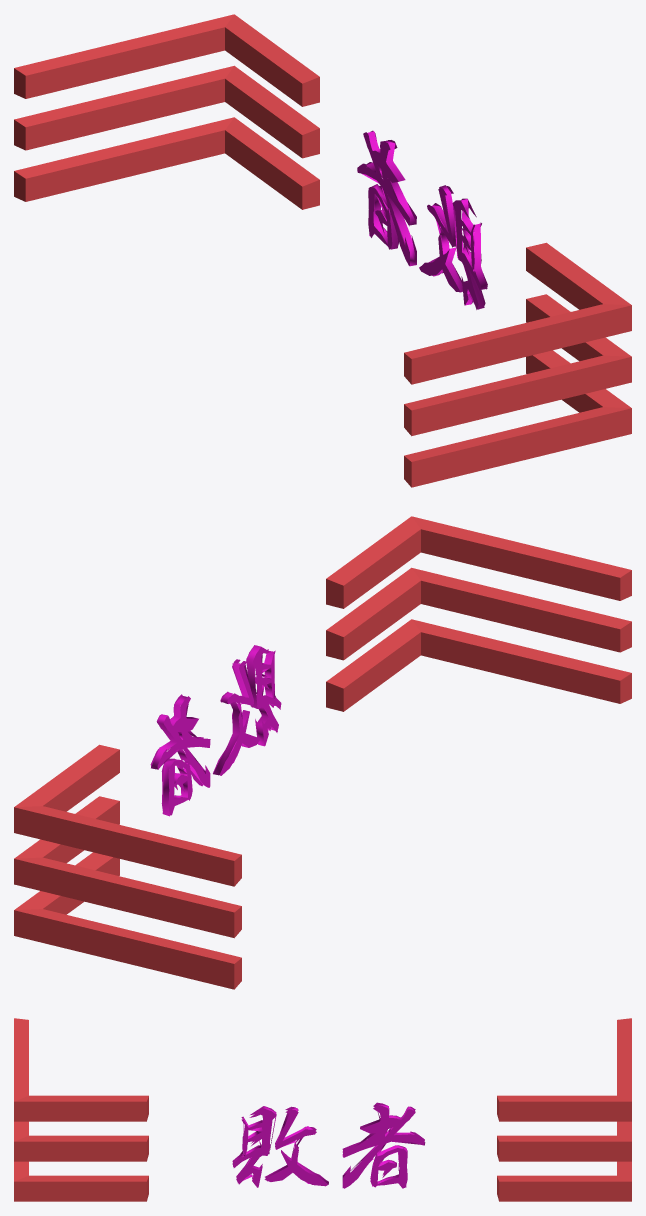
File: RamLoser.fbx
3 renders of one model, top to bottom at view 1: azimuth 30°, elevation 25°; view 2: azimuth 150°, elevation 25°; view 3: azimuth 270°, elevation 25°, orthographic. The views are drawn at different scales.
Parts seen in each view (by area): view 1: Plane.007, Plane.006, Plane.008, Plane.030, Plane.004, Plane.005, Text.001; view 2: Plane.004, Plane.030, Plane.005, Plane.006, Plane.007, Plane.008, Text.001; view 3: Text.001, Plane.006, Plane.030, Plane.004, Plane.005, Plane.007, Plane.008.
Part boxes in pixels (left/top/right/bottom): Plane.007: left=14, top=65, right=319, bottom=158; Plane.006: left=14, top=14, right=319, bottom=106; Plane.008: left=14, top=117, right=319, bottom=209; Plane.030: left=404, top=242, right=631, bottom=384; Plane.004: left=404, top=294, right=631, bottom=436; Plane.005: left=404, top=350, right=631, bottom=487; Text.001: left=357, top=130, right=487, bottom=309; Plane.004: left=326, top=567, right=631, bottom=660; Plane.030: left=326, top=516, right=631, bottom=608; Plane.005: left=326, top=619, right=631, bottom=711; Plane.006: left=14, top=744, right=241, bottom=886; Plane.007: left=14, top=796, right=241, bottom=938; Plane.008: left=14, top=852, right=241, bottom=989; Text.001: left=150, top=645, right=281, bottom=816; Text.001: left=232, top=1102, right=425, bottom=1188; Plane.006: left=497, top=1018, right=631, bottom=1121; Plane.030: left=14, top=1018, right=148, bottom=1121; Plane.004: left=14, top=1121, right=148, bottom=1161; Plane.005: left=14, top=1161, right=148, bottom=1201; Plane.007: left=497, top=1121, right=631, bottom=1161; Plane.008: left=497, top=1161, right=631, bottom=1201.
Bounding box in the file's own units: 8.97 × 5 × 28.
